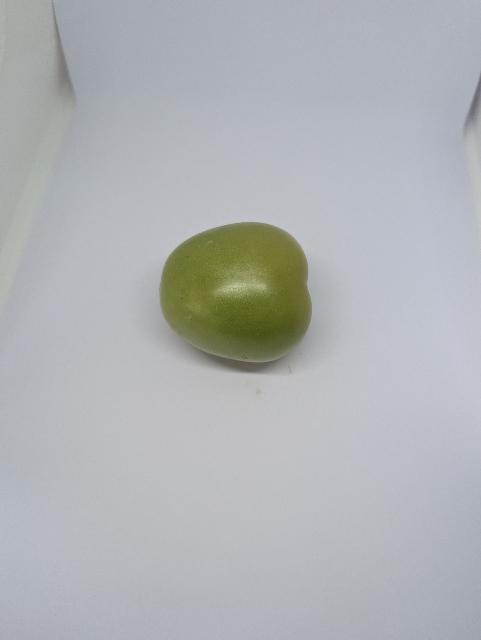green: (158, 221, 316, 366)
